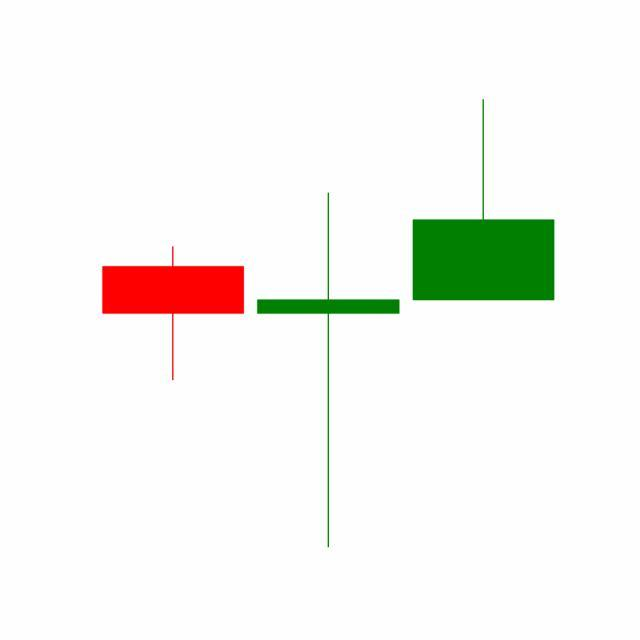Spinning Top: (250, 189, 407, 552)
